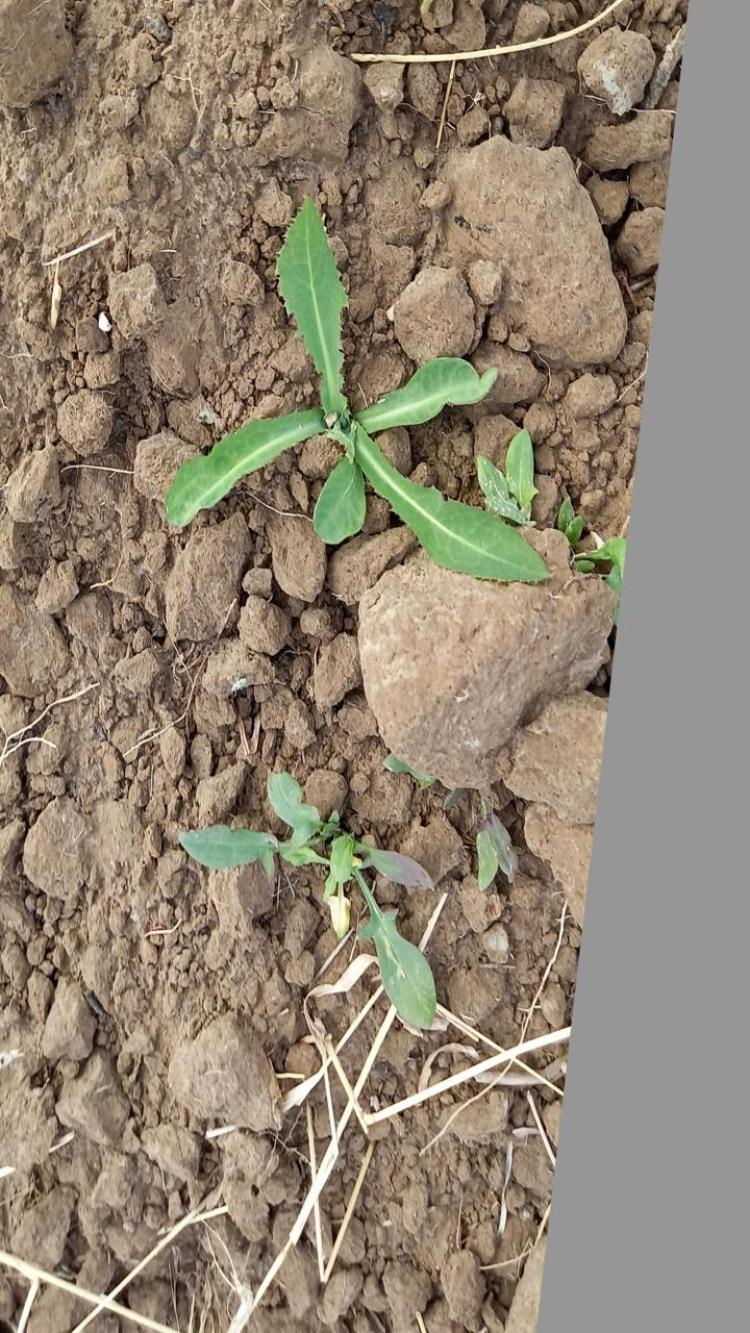osot: (167, 208, 558, 592)
